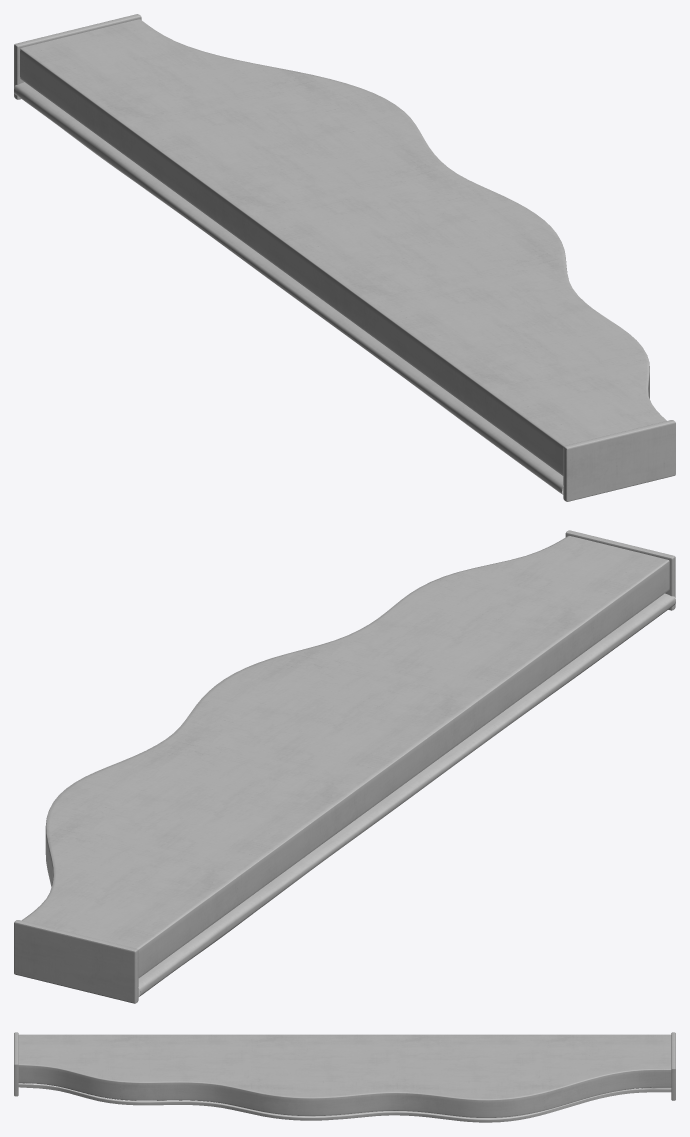
Rendered from SM_Corner.fbx.
The picture shows the model from 3 angles, top to bottom: view 1: azimuth 30°, elevation 25°; view 2: azimuth 150°, elevation 25°; view 3: azimuth 270°, elevation 25°; orthographic projection. The views are drawn at different scales.
Visible parts, largest first — view 1: SM_Corner_LOD0; view 2: SM_Corner_LOD0; view 3: SM_Corner_LOD0.
Part boxes in pixels (x1,y1,x2,y2): SM_Corner_LOD0: (14, 14, 675, 501); SM_Corner_LOD0: (14, 530, 675, 1003); SM_Corner_LOD0: (14, 1032, 675, 1122).
Size of the model in its own units: 384 by 1606 by 87.36.
2 materials, 1 textured.
